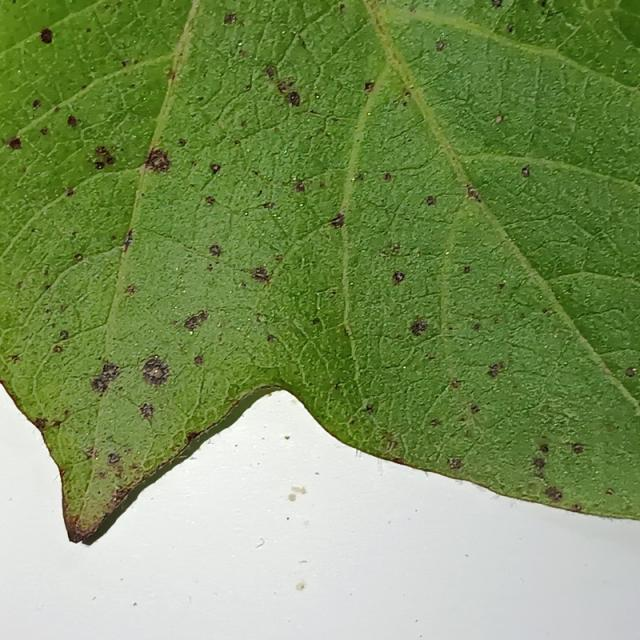Bacterial_Blight: (282, 175, 331, 202), (90, 361, 122, 394), (140, 355, 171, 386), (143, 146, 172, 172), (326, 202, 347, 237), (530, 446, 551, 479), (92, 145, 117, 170), (182, 309, 208, 331), (381, 433, 400, 452), (380, 242, 403, 257), (410, 319, 428, 337), (2, 135, 22, 151), (101, 362, 119, 379), (138, 402, 155, 420), (544, 485, 563, 501), (90, 376, 107, 393), (252, 267, 270, 283), (122, 229, 134, 252), (39, 27, 54, 45), (286, 91, 301, 107), (467, 187, 482, 203), (54, 329, 70, 343), (392, 270, 406, 285), (277, 80, 293, 93), (84, 446, 98, 460), (208, 244, 223, 257), (223, 12, 238, 25), (107, 452, 122, 465), (184, 431, 200, 443), (448, 457, 462, 470), (34, 417, 48, 430), (264, 64, 276, 79), (209, 162, 222, 174), (363, 80, 375, 93), (124, 283, 137, 295), (67, 114, 78, 128), (624, 366, 637, 377), (520, 165, 531, 178), (204, 195, 217, 206), (572, 443, 585, 454), (493, 112, 504, 124), (487, 367, 499, 378), (193, 354, 204, 366), (489, 0, 503, 9), (425, 195, 436, 206), (435, 40, 446, 51), (469, 404, 481, 414), (391, 457, 406, 465), (429, 418, 442, 427), (450, 379, 461, 389), (538, 443, 549, 453), (295, 182, 306, 192), (166, 70, 176, 81), (65, 187, 75, 197), (383, 172, 393, 182), (32, 99, 42, 109), (354, 173, 365, 182), (363, 404, 374, 413), (94, 161, 105, 170), (10, 354, 21, 363), (263, 201, 275, 209), (266, 334, 276, 343), (74, 253, 84, 262), (238, 49, 248, 58), (571, 503, 582, 511), (40, 127, 49, 136), (472, 322, 481, 331), (53, 345, 63, 353), (506, 24, 514, 34), (344, 326, 352, 336), (312, 317, 321, 325), (463, 265, 471, 274), (121, 59, 130, 67), (334, 382, 343, 390), (178, 138, 187, 146), (498, 282, 506, 290), (339, 4, 346, 13), (605, 488, 614, 495), (233, 139, 241, 146), (206, 263, 213, 271), (44, 284, 52, 291), (542, 308, 550, 315), (540, 0, 547, 8), (404, 91, 411, 98), (197, 95, 204, 101), (409, 7, 416, 13), (85, 28, 92, 33)
Cotton: (0, 0, 639, 539)
